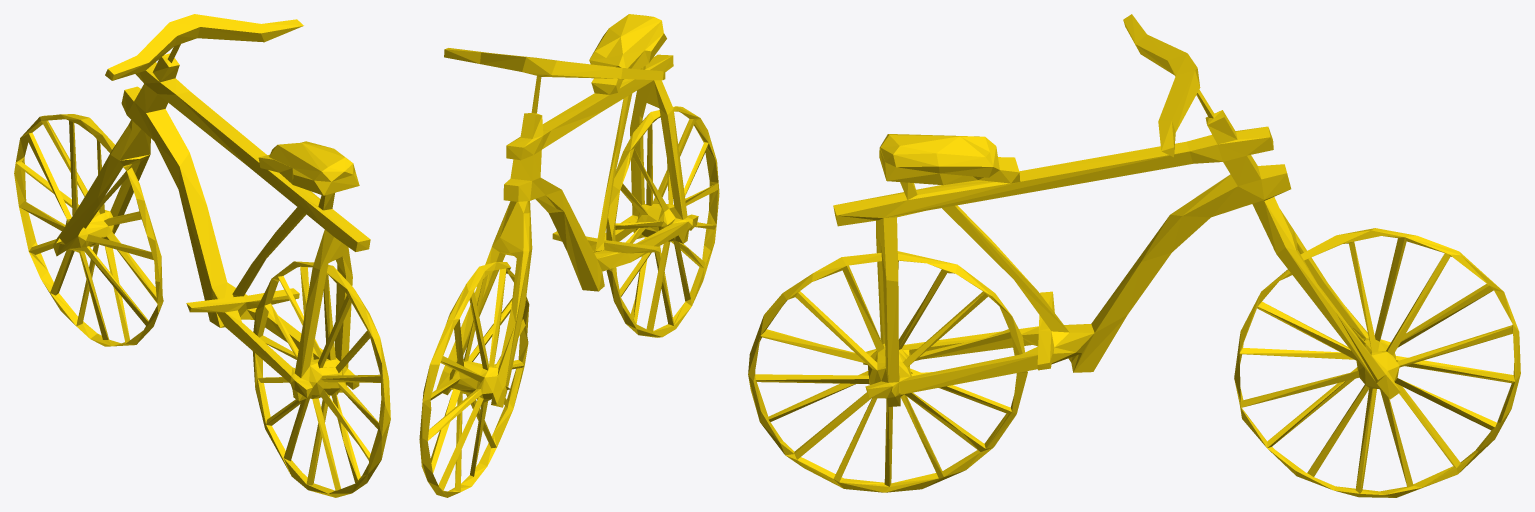
The model's file is goldCycle.fbx.
3 views of the same model, side by side, from view 1: azimuth 30°, elevation 25°; view 2: azimuth 150°, elevation 25°; view 3: azimuth 270°, elevation 25° (orthographic). The views are drawn at different scales.
Parts seen in each view (by area): view 1: MNS_MS_342_E_Rower_drewniany_200K_edit01w; view 2: MNS_MS_342_E_Rower_drewniany_200K_edit01w; view 3: MNS_MS_342_E_Rower_drewniany_200K_edit01w.
Boxes of the visible parts, box(x1,y1,x2,y2) form: MNS_MS_342_E_Rower_drewniany_200K_edit01w: box(14, 14, 390, 497); MNS_MS_342_E_Rower_drewniany_200K_edit01w: box(419, 14, 719, 497); MNS_MS_342_E_Rower_drewniany_200K_edit01w: box(748, 14, 1520, 497).
Size of the model in its own units: 1462 by 2537 by 4048.
